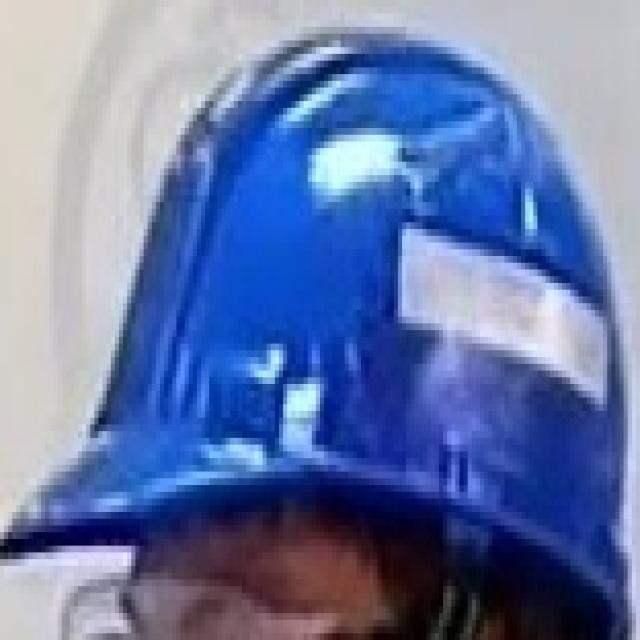Helmet: (4, 3, 636, 637)
